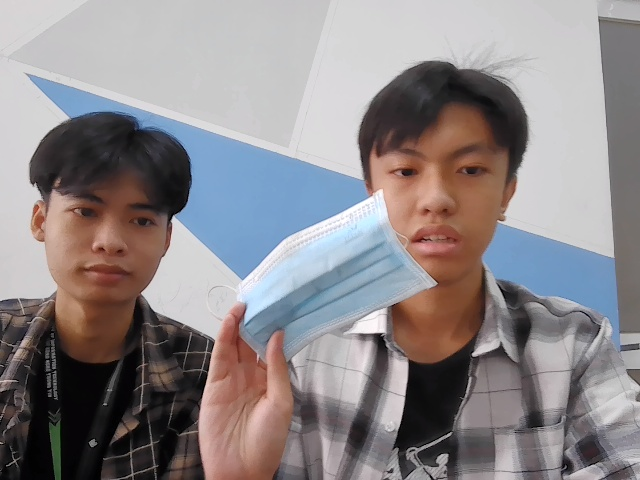human: (20, 103, 194, 305), (365, 53, 527, 267)
mask: (228, 189, 438, 347)
